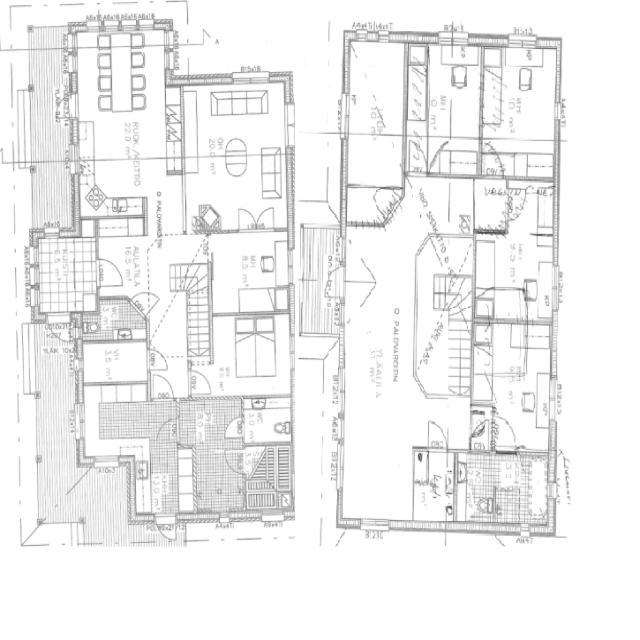door: (233, 204, 280, 231), (491, 413, 519, 452), (95, 255, 126, 290), (404, 134, 428, 172), (424, 418, 450, 453), (187, 366, 214, 397), (150, 370, 177, 401), (153, 415, 180, 444), (146, 345, 170, 373), (222, 412, 245, 440), (155, 512, 177, 540), (198, 26, 216, 46), (0, 144, 9, 168)
window: (526, 264, 558, 322), (282, 98, 298, 152), (333, 438, 348, 494), (229, 69, 272, 87), (545, 372, 559, 426), (335, 360, 348, 412), (549, 262, 561, 316), (74, 397, 88, 443), (435, 31, 473, 46), (284, 245, 297, 288), (506, 34, 540, 50), (286, 333, 298, 376), (358, 517, 391, 532), (90, 453, 122, 467), (340, 90, 353, 121), (552, 98, 564, 124), (137, 16, 156, 32)
zone: (182, 89, 289, 234), (75, 31, 178, 162), (480, 45, 560, 175), (474, 330, 554, 449), (411, 42, 482, 176), (345, 36, 406, 186), (195, 313, 292, 397), (180, 82, 289, 156), (457, 449, 546, 526), (210, 230, 290, 315), (78, 381, 153, 461), (299, 225, 343, 337), (475, 234, 555, 292), (174, 396, 243, 449), (244, 442, 294, 515), (344, 134, 404, 188), (81, 340, 151, 383), (506, 178, 557, 235), (426, 176, 474, 235), (242, 396, 292, 446), (476, 287, 528, 324), (474, 177, 508, 233), (413, 450, 456, 494), (524, 266, 556, 324), (413, 486, 455, 521), (490, 405, 521, 452), (469, 406, 493, 452)
